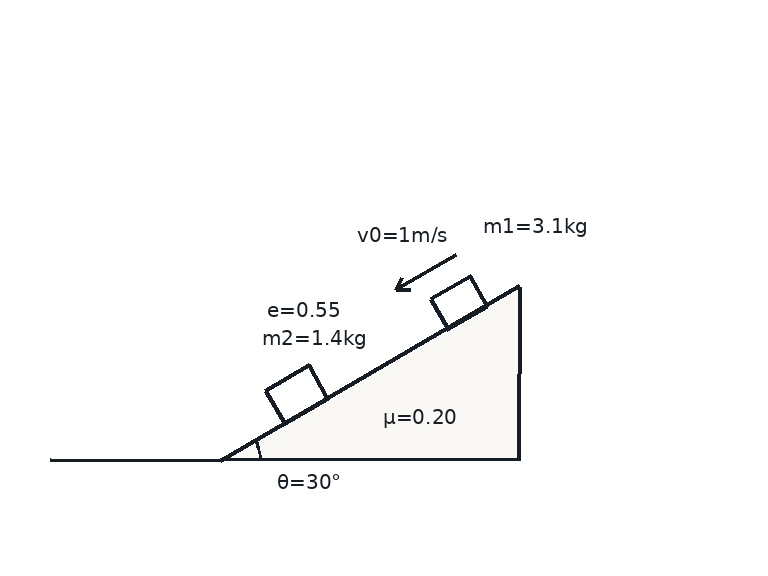block: (263, 363, 330, 425), (428, 274, 489, 331)
ramp: (218, 286, 521, 462)
